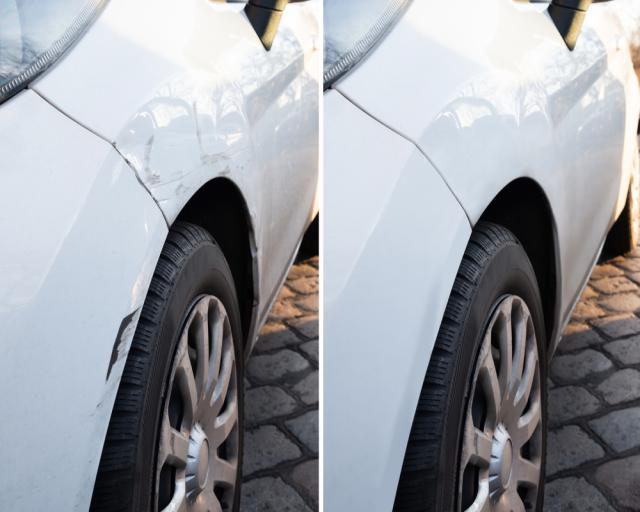scratch: (119, 100, 238, 201), (104, 302, 144, 379)
